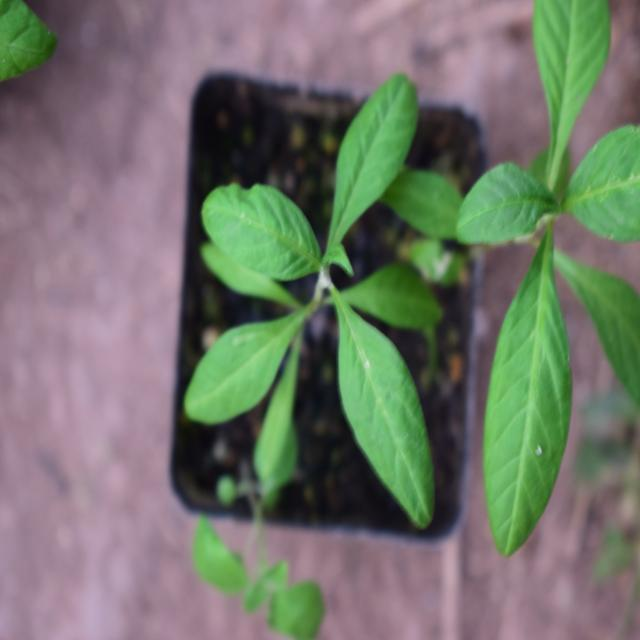white_smart_weed: (189, 48, 471, 526)
